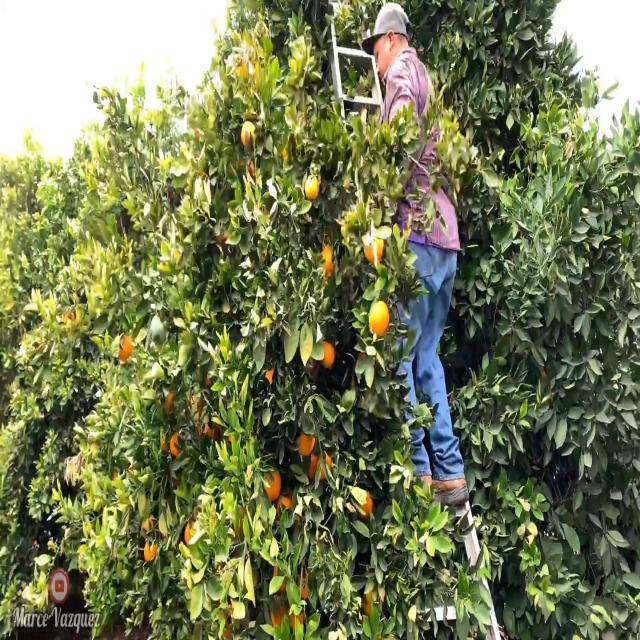Jeruk Sudah Matang: (368, 300, 391, 342), (362, 230, 386, 263), (262, 464, 281, 502), (292, 426, 316, 456), (319, 243, 337, 280), (115, 336, 136, 366), (182, 518, 200, 552), (238, 120, 258, 148), (296, 570, 314, 600), (318, 342, 336, 370), (142, 538, 160, 564), (169, 432, 186, 459), (304, 173, 320, 199)
